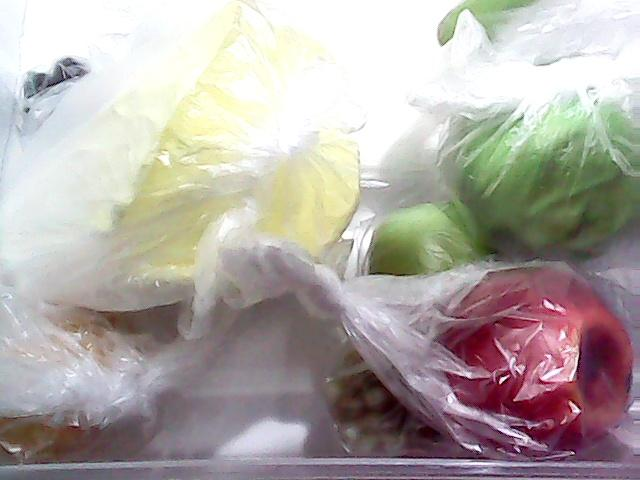apple: (393, 251, 635, 462), (362, 185, 482, 283)
cabbage: (426, 37, 640, 261)
grape: (314, 336, 438, 452), (20, 43, 94, 105)
napa cabbage: (5, 28, 371, 313)
potato: (0, 296, 152, 460)
